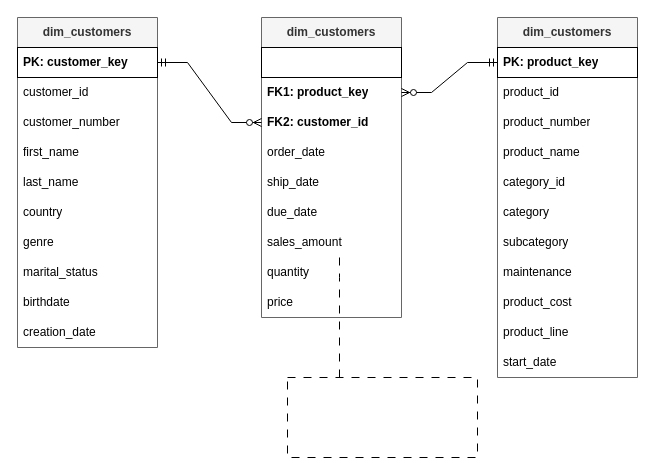
This 655x475 diagram has some shape labels left out. Here are the shapes that lost their labels. From the top down, the centre of each, then its label:
At point (331, 62): "PK: order_number".
At point (382, 417): "SALES CALCULATION Sales_amount= quantity * price".
